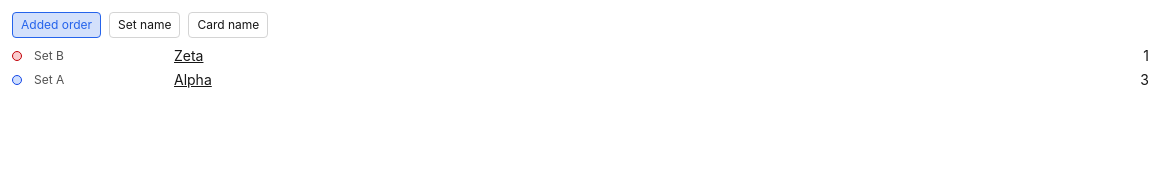
Test: BatchCardList › sorting by card name reorders alphabetically by title
The width and height of the screenshot is (1164, 172).
Click the button "Card name": {"x": 228, "y": 25} [188, 12, 268, 38]
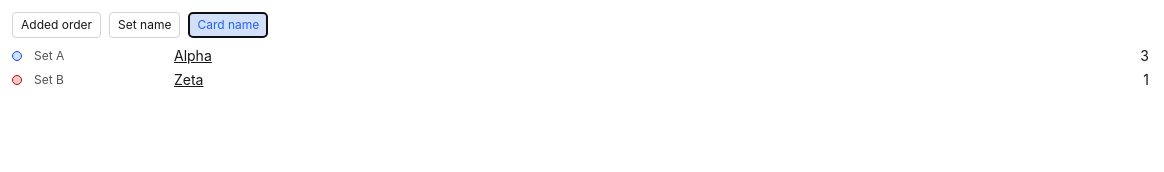
Check: the buttons "Show details for" read "Alpha", "Zeta", in this order, box [174, 46, 212, 66]; [174, 70, 204, 90]
